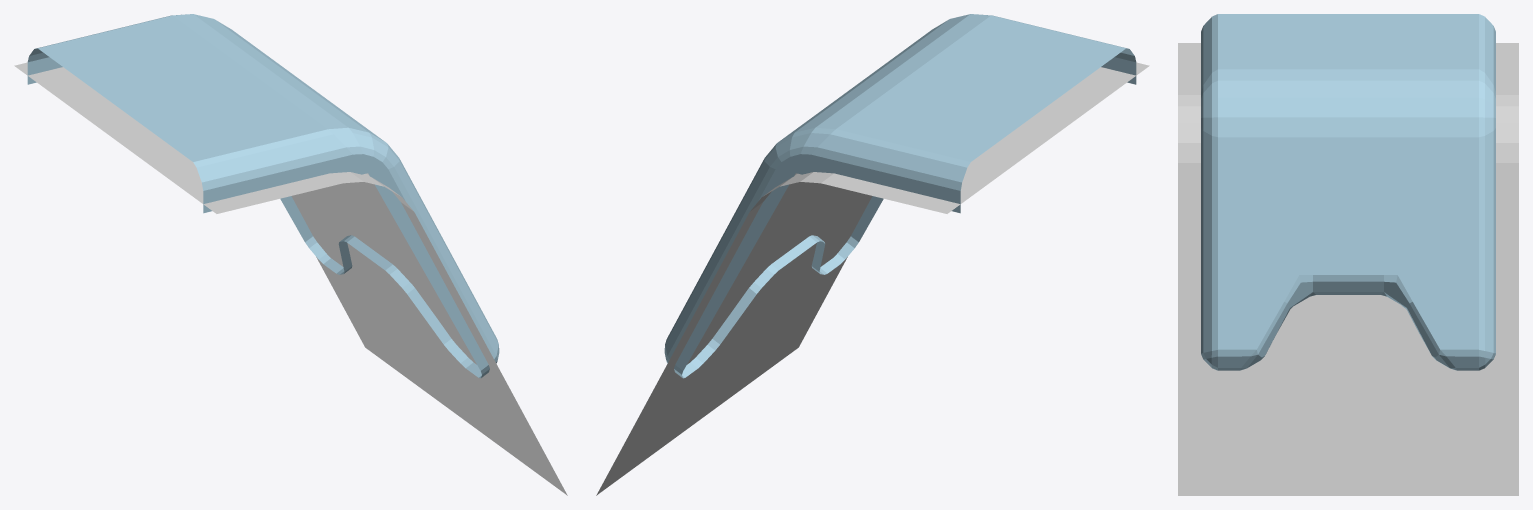
The model's file is MESH_ENV_Wall_SleekWall1_1x1.fbx.
The picture shows the model from 3 angles, left to right: view 1: azimuth 30°, elevation 25°; view 2: azimuth 150°, elevation 25°; view 3: azimuth 270°, elevation 25°; orthographic projection. The views are drawn at different scales.
Parts seen in each view (by area): view 1: Cube.182; view 2: Cube.182; view 3: Cube.182.
Boxes of the visible parts, <box> form: Cube.182: <box>14,14,567,495</box>; Cube.182: <box>596,14,1149,495</box>; Cube.182: <box>1178,14,1518,495</box>.
Bounding box in the file's own units: 100 × 109 × 100.
